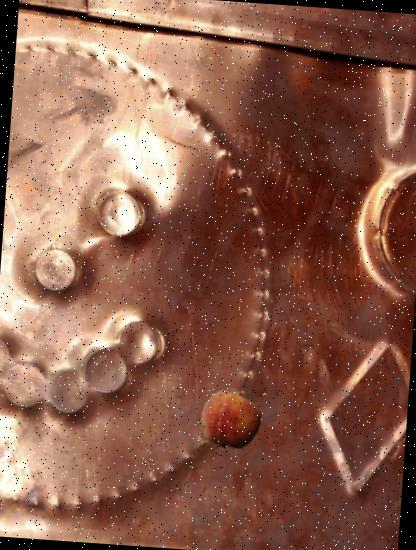Peach: (198, 390, 262, 454)
